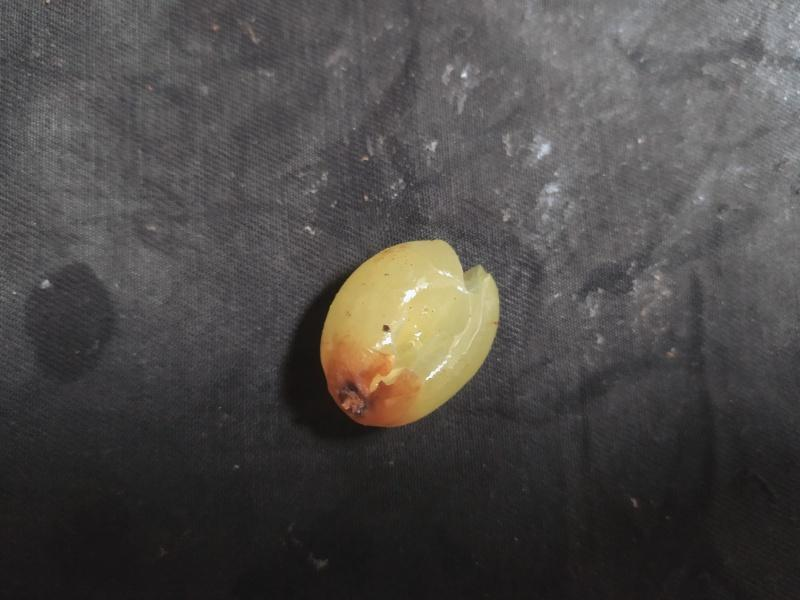Grape Overripe: (318, 236, 503, 429)
